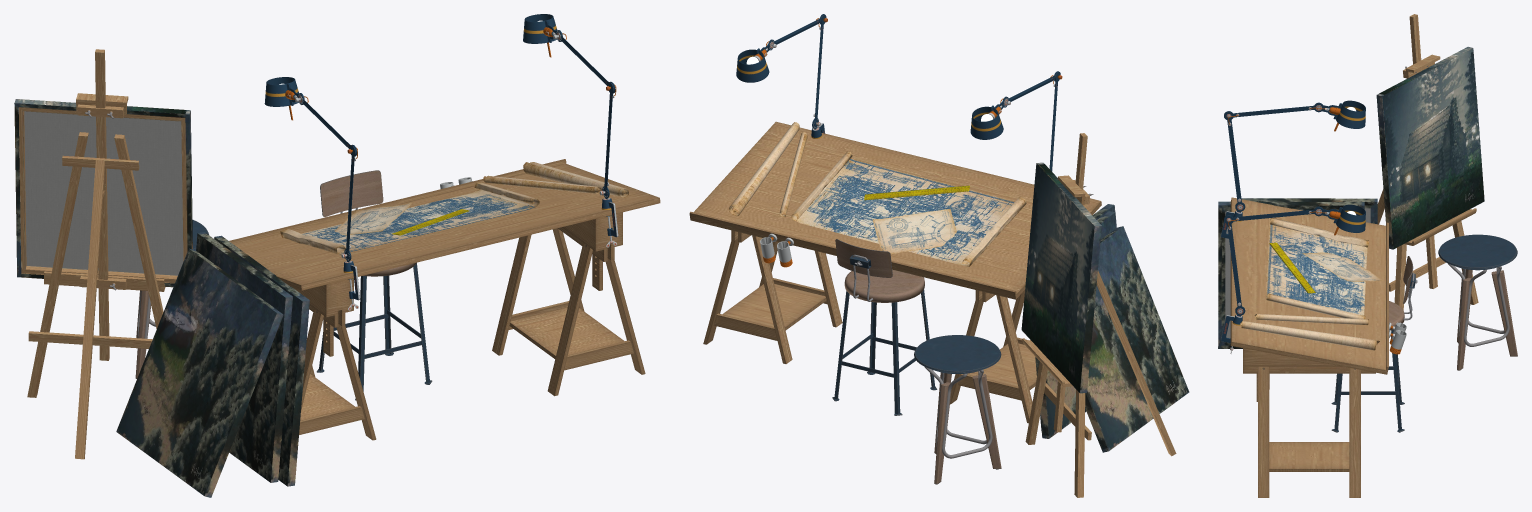
The model's file is drafting-desk.glb.
The picture shows the model from 3 angles, left to right: view 1: azimuth 30°, elevation 25°; view 2: azimuth 150°, elevation 25°; view 3: azimuth 270°, elevation 25°; orthographic projection. The views are drawn at different scales.
Parts seen in each view (by area): view 1: Group_47, Group_47.003, Group_35.001, Group_47.002, Plane.001_1, Group_47.001, Group_46, Group_38.003, Component_13_2, Group_40, 3DGeom_2_Defintion.001, 3DGeom_2_Defintion.002 (+19 smaller); view 2: Group_35.001, Group_47.003, Group_47, Plane.001_1, Cube, Plane.010_10, Group_34, Group_38.003, 3DGeom_2_Defintion.001, 3DGeom_2_Defintion.002, Group_46, Group_47.002 (+18 smaller); view 3: Group_47, Group_35.001, Plane.001_1, 3DGeom_2_Defintion.001, Group_38.003, 3DGeom_2_Defintion.002, Group_34, Group_47.001, Group_36.013, Group_36.012, Plane.007_7, Plane.010_10 (+16 smaller).
Part boxes in pixels (x1,y1,x2,y2): Group_47: [14, 99, 192, 287]; Group_47.003: [116, 248, 283, 497]; Group_35.001: [229, 159, 660, 290]; Group_47.002: [196, 232, 292, 482]; Plane.001_1: [280, 182, 539, 254]; Group_47.001: [214, 235, 309, 486]; Group_46: [75, 160, 104, 459]; Group_38.003: [509, 307, 624, 358]; Component_13_2: [27, 132, 88, 397]; Group_40: [95, 49, 109, 360]; 3DGeom_2_Defintion.001: [458, 14, 618, 247]; 3DGeom_2_Defintion.002: [264, 77, 454, 310]; Group_35.001: [689, 121, 1101, 299]; Group_47.003: [1085, 226, 1189, 452]; Group_47: [1021, 162, 1101, 393]; Plane.001_1: [791, 151, 1026, 266]; Cube: [835, 239, 924, 302]; Plane.010_10: [872, 209, 956, 254]; Group_34: [914, 335, 1001, 373]; Group_38.003: [722, 284, 826, 330]; 3DGeom_2_Defintion.001: [736, 14, 827, 263]; 3DGeom_2_Defintion.002: [777, 71, 1062, 267]; Group_46: [1096, 270, 1176, 456]; Group_47.002: [1035, 211, 1116, 438]; Group_47: [1376, 46, 1484, 249]; Group_35.001: [1230, 197, 1388, 374]; Plane.001_1: [1266, 218, 1368, 319]; 3DGeom_2_Defintion.001: [1221, 204, 1406, 354]; Group_38.003: [1269, 442, 1349, 471]; 3DGeom_2_Defintion.002: [1221, 100, 1406, 344]; Group_34: [1438, 234, 1517, 270]; Group_47.001: [1218, 201, 1364, 348]; Group_36.013: [1258, 366, 1269, 497]; Group_36.012: [1349, 368, 1360, 497]; Plane.007_7: [1240, 321, 1379, 350]; Plane.010_10: [1302, 252, 1383, 281].
Size of the model in its own units: 258 by 176 by 158.
8 materials, 8 textured.
